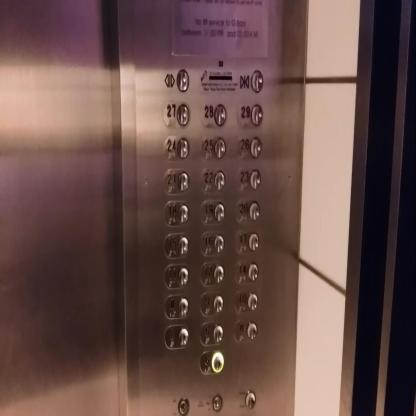10: (233, 288, 258, 314)
11: (163, 263, 190, 289)
12: (199, 260, 225, 288)
14: (233, 258, 259, 285)
15: (163, 232, 190, 259)
16: (198, 230, 226, 257)
17: (234, 229, 260, 255)
18: (163, 199, 190, 227)
19: (199, 198, 226, 226)
2: (164, 323, 190, 350)
20: (235, 198, 261, 224)
21: (163, 167, 190, 195)
22: (199, 166, 226, 192)
23: (235, 166, 261, 192)
24: (163, 134, 190, 162)
25: (200, 135, 226, 161)
26: (235, 135, 263, 160)
27: (162, 100, 190, 129)
28: (200, 99, 228, 128)
29: (236, 98, 264, 127)
6: (199, 320, 224, 347)
8: (233, 317, 259, 344)
9: (199, 290, 224, 318)
G: (199, 349, 224, 376)
blur: (164, 293, 190, 320)
close: (238, 66, 264, 96)
empty: (245, 390, 256, 410)
open: (162, 66, 190, 95)
